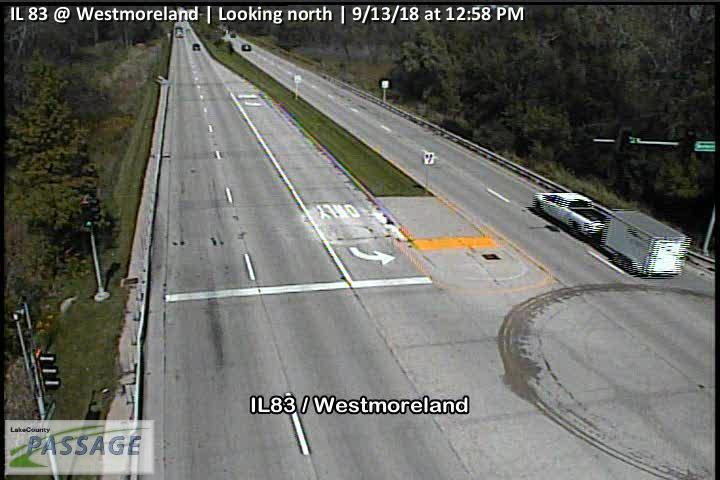Truck: (532, 189, 693, 278)
